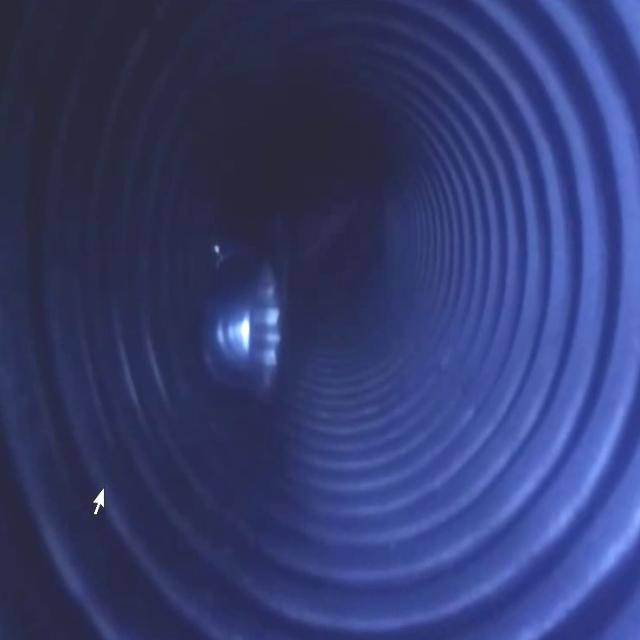metal piece: (198, 244, 282, 404)
